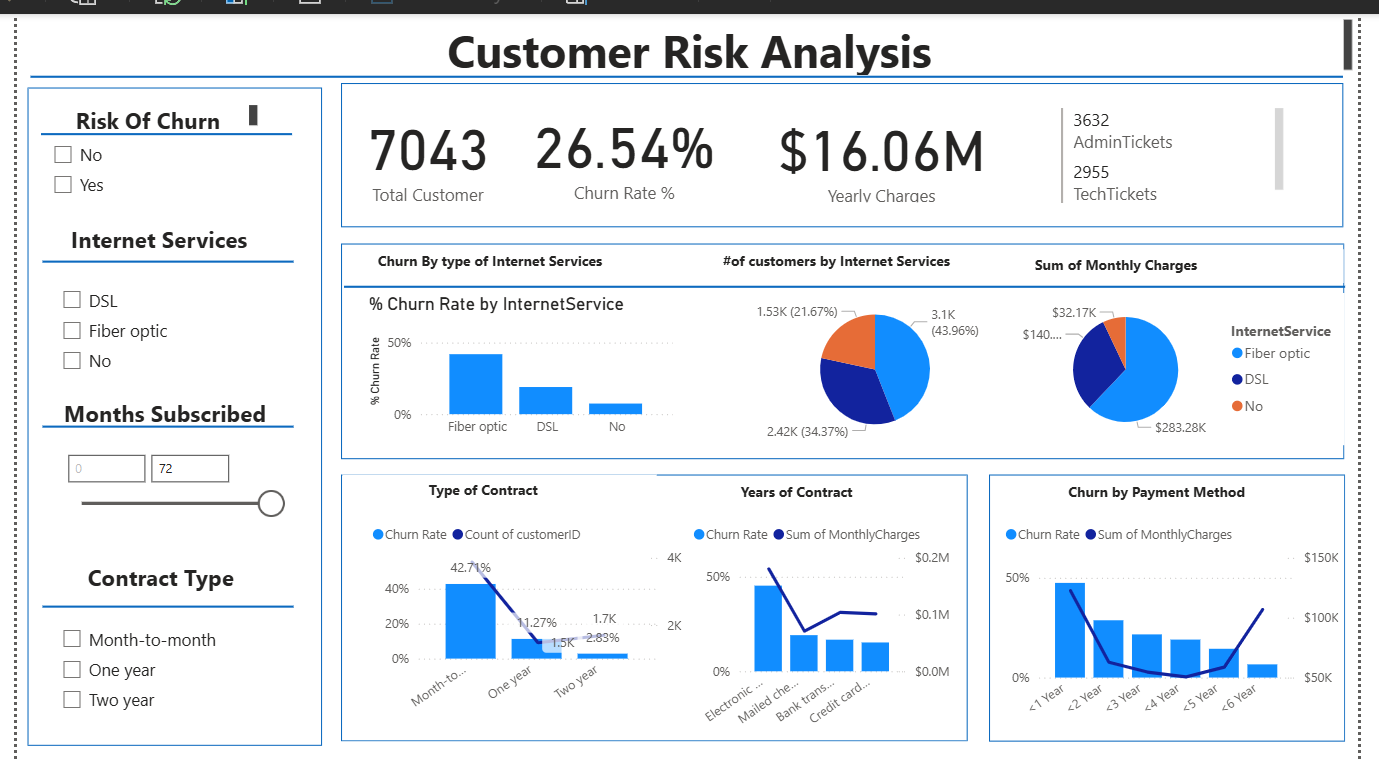

The dashboard page shown, as its layout file describes it:
{"tool":"powerbi","page":{"name":"Customer Risk analysis","canvas":[1280,720],"ordinal":0},"visuals":[{"type":"shape","box":[9.4,69.9,281.3,628.7],"z":0},{"type":"shape","box":[309.6,66.1,957.2,137.8],"z":1000},{"type":"shape","box":[309.6,439.9,598.5,254.9],"z":2000},{"type":"shape","box":[309.9,219.2,958.1,206],"z":3000},{"type":"shape","box":[927.9,440.3,340.2,255.1],"z":4000},{"type":"slicer","fields":{"Values":["Churn.Churn"]},"box":[22.7,115.2,203.9,69.9],"z":5000},{"type":"slicer","fields":{"Values":["Churn.tenure"]},"box":[35.9,411.6,228.4,105.7],"z":6000},{"type":"slicer","fields":{"Values":["Churn.InternetService"]},"box":[32.1,253,175.6,107.6],"z":7000},{"type":"slicer","fields":{"Values":["Churn.Contract"]},"box":[32.1,577.7,237.9,105.7],"z":8000},{"type":"card","fields":{"Values":["Count(Churn.customerID)"]},"box":[322.8,81.2,139.7,103.8],"z":9000},{"type":"card","fields":{"Values":["Churn.% Churn Rate"]},"box":[487.1,79.3,185,105.7],"z":10000},{"type":"card","fields":{"Values":["Sum(Churn.TotalCharges)"]},"box":[711.7,85,226.5,100.1],"z":11000},{"type":"multiRowCard","fields":{"Values":["Sum(Churn.numAdminTickets)","Sum(Churn.numTechTickets)"]},"box":[991.2,85,222.8,100.1],"z":12000},{"type":"columnChart","fields":{"Category":["Churn.InternetService"],"Y":["Churn.% Churn Rate"]},"box":[330.4,266.2,300.2,145.4],"z":13000},{"type":"pieChart","fields":{"Category":["Churn.InternetService"],"Y":["CountNonNull(Churn.customerID)"]},"box":[668.3,266.2,300.2,145.4],"z":14000},{"type":"pieChart","fields":{"Category":["Churn.InternetService"],"Y":["Sum(Churn.MonthlyCharges)"]},"box":[952.4,266.5,315.6,145.5],"z":15000},{"type":"lineStackedColumnComboChart","fields":{"Category":["Churn.Contract"],"Y":["Churn.% Churn Rate"],"Y2":["CountNonNull(Churn.customerID)"]},"box":[334.2,477.6,305.8,198.2],"z":16000},{"type":"lineStackedColumnComboChart","fields":{"Y":["Churn.% Churn Rate"],"Y2":["Sum(Churn.MonthlyCharges)"],"Category":["Churn.Tenure (In Years)"]},"box":[938.3,477.6,328.5,213.3],"z":17000},{"type":"lineStackedColumnComboChart","fields":{"Y":["Churn.% Churn Rate"],"Y2":["Sum(Churn.MonthlyCharges)"],"Category":["Churn.PaymentMethod"]},"box":[640,477.6,254.9,213.3],"z":18000},{"type":"textbox","box":[13.2,0,1266.8,62.3],"z":19000},{"type":"shape","box":[13.2,39.6,1253.6,39.6],"z":20000},{"type":"textbox","box":[339.8,220.9,300.2,35.9],"z":21000},{"type":"textbox","box":[668.3,220.9,300.2,32.1],"z":22000},{"type":"textbox","box":[966.6,224.7,300.2,32.1],"z":23000},{"type":"shape","box":[311.8,240,956.2,39.7],"z":24000},{"type":"textbox","box":[311.5,439.9,300.2,34],"z":25000},{"type":"textbox","box":[594.7,441.8,300.2,35.9],"z":26000},{"type":"textbox","box":[938.3,441.8,300.2,35.9],"z":27000},{"type":"textbox","box":[22.7,81.2,211.4,34],"z":28000},{"type":"textbox","box":[30.2,194.5,211.4,49.1],"z":29000},{"type":"textbox","box":[30.2,360.6,222.8,49.1],"z":30000},{"type":"textbox","box":[39.6,517.3,194.5,49.1],"z":31000},{"type":"shape","box":[22.7,85,239.8,60.4],"z":32000},{"type":"shape","box":[24.5,205.8,239.8,60.4],"z":33000},{"type":"shape","box":[24.5,364.4,239.8,60.4],"z":34000},{"type":"shape","box":[24.5,536.2,239.8,60.4],"z":35000}]}

Visuals, with their boxes on the page's 1280x720 design canvas (x1, y1, x2, y2). These are canvas units, not pixel positions in the 1379x762 screenshot, which may show the page scaled, cropped or inside an application window:
shape: region(9, 70, 291, 699)
shape: region(310, 66, 1267, 204)
shape: region(310, 440, 908, 695)
shape: region(310, 219, 1268, 425)
shape: region(928, 440, 1268, 695)
slicer - Churn.Churn: region(23, 115, 227, 185)
slicer - Churn.tenure: region(36, 412, 264, 517)
slicer - Churn.InternetService: region(32, 253, 208, 361)
slicer - Churn.Contract: region(32, 578, 270, 683)
card - Count(Churn.customerID): region(323, 81, 462, 185)
card - Churn.% Churn Rate: region(487, 79, 672, 185)
card - Sum(Churn.TotalCharges): region(712, 85, 938, 185)
multiRowCard - Sum(Churn.numAdminTickets) x Sum(Churn.numTechTickets): region(991, 85, 1214, 185)
columnChart - Churn.InternetService x Churn.% Churn Rate: region(330, 266, 631, 412)
pieChart - Churn.InternetService x CountNonNull(Churn.customerID): region(668, 266, 968, 412)
pieChart - Churn.InternetService x Sum(Churn.MonthlyCharges): region(952, 266, 1268, 412)
lineStackedColumnComboChart - Churn.Contract x Churn.% Churn Rate: region(334, 478, 640, 676)
lineStackedColumnComboChart - Churn.% Churn Rate x Sum(Churn.MonthlyCharges): region(938, 478, 1267, 691)
lineStackedColumnComboChart - Churn.% Churn Rate x Sum(Churn.MonthlyCharges): region(640, 478, 895, 691)
textbox: region(13, 0, 1280, 62)
shape: region(13, 40, 1267, 79)
textbox: region(340, 221, 640, 257)
textbox: region(668, 221, 968, 253)
textbox: region(967, 225, 1267, 257)
shape: region(312, 240, 1268, 280)
textbox: region(312, 440, 612, 474)
textbox: region(595, 442, 895, 478)
textbox: region(938, 442, 1238, 478)
textbox: region(23, 81, 234, 115)
textbox: region(30, 194, 242, 244)
textbox: region(30, 361, 253, 410)
textbox: region(40, 517, 234, 566)
shape: region(23, 85, 262, 145)
shape: region(24, 206, 264, 266)
shape: region(24, 364, 264, 425)
shape: region(24, 536, 264, 597)
